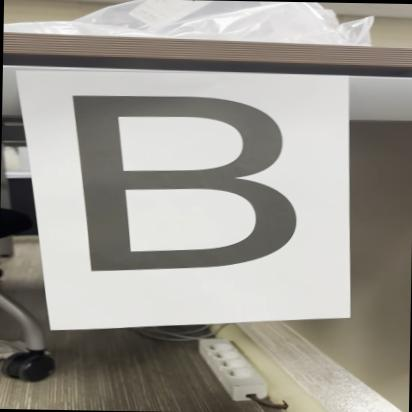seat: (68, 88, 322, 300)
